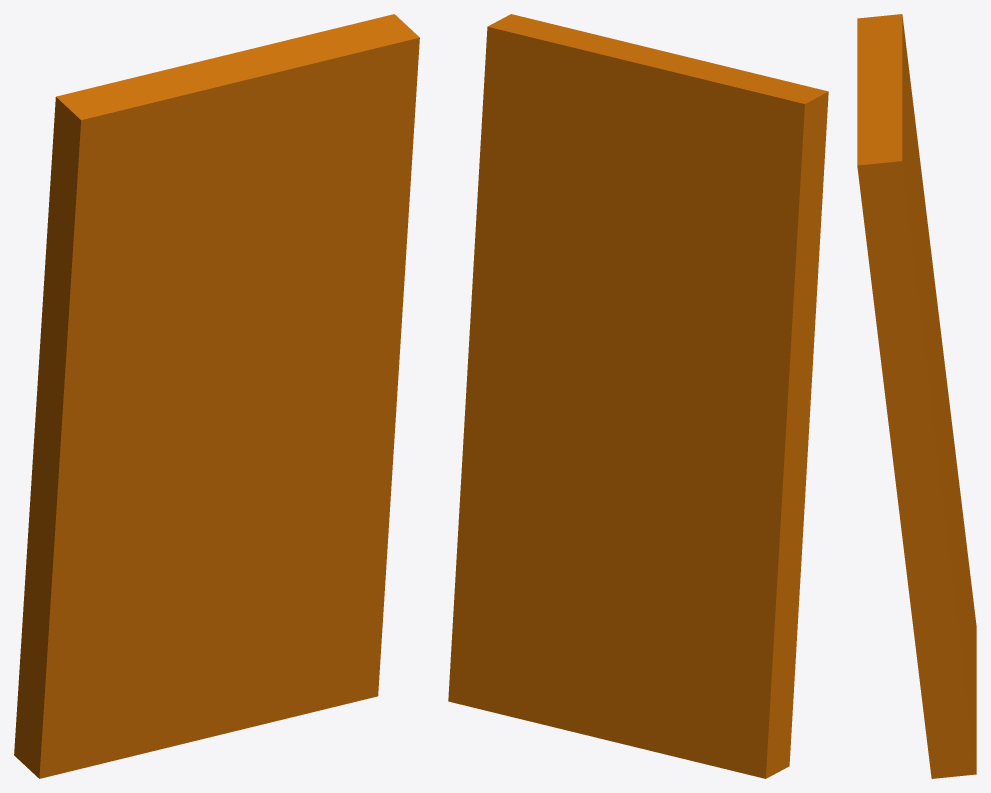
The model's file is cape0004.glb.
3 renders of one model, left to right at view 1: azimuth 30°, elevation 25°; view 2: azimuth 150°, elevation 25°; view 3: azimuth 270°, elevation 25°, orthographic. The views are drawn at different scales.
Parts seen in each view (by area): view 1: cape0004_export; view 2: cape0004_export; view 3: cape0004_export.
Part boxes in pixels (box(x1,y1,x2,y2)): cape0004_export: box(14, 14, 419, 778); cape0004_export: box(448, 14, 828, 778); cape0004_export: box(857, 14, 976, 778).
Size of the model in its own units: 0.3713 by 0.7273 by 0.1274.
